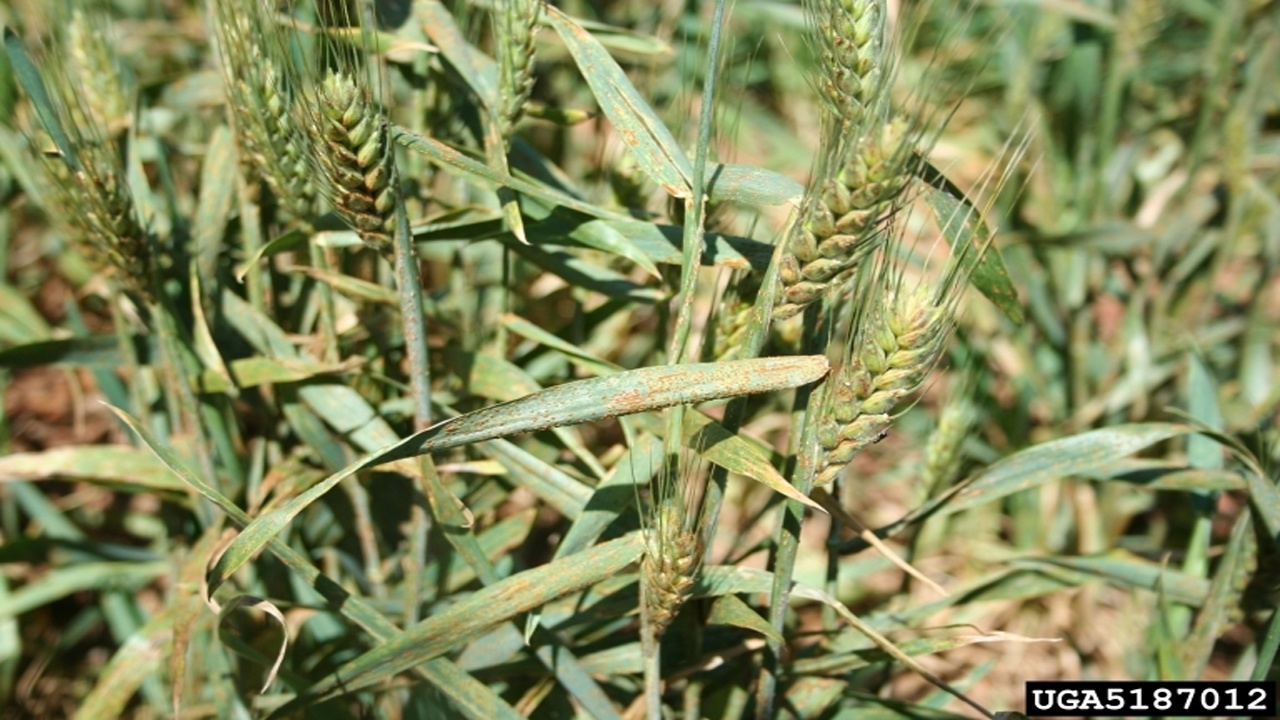leaf_rust: (448, 351, 828, 446), (544, 5, 703, 207), (404, 533, 640, 669), (908, 428, 1224, 515), (390, 167, 440, 433), (188, 126, 239, 276)
